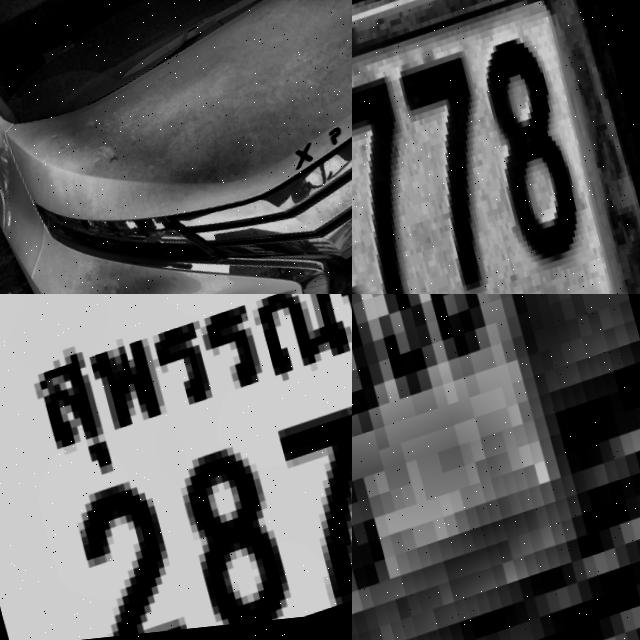license-plate: (0, 294, 352, 640), (352, 294, 640, 640), (352, 0, 640, 294)
